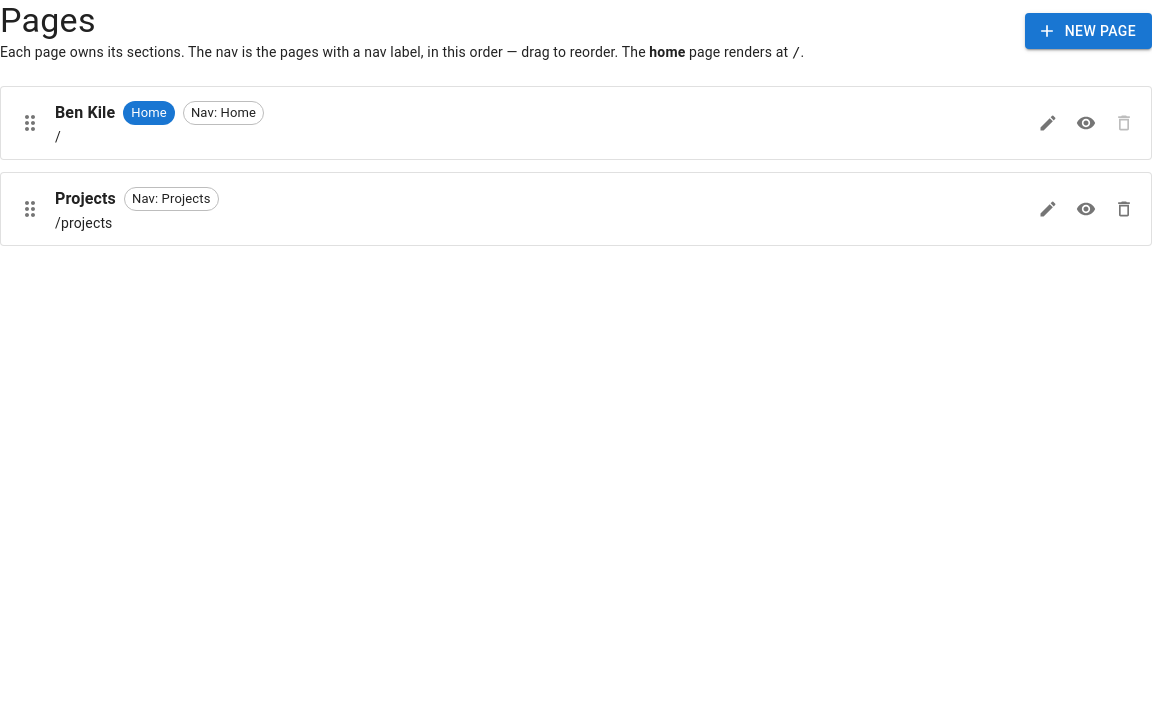
it: PagesPage (§3.10, §4.2, §4.5) › edit sends expected_updated_at and surfaces the 409 refetch flow (§4.5)
The image size is (1152, 720).
Step 1. Click the button named "edit projects" → coordinates (1048, 209), box 1033,194 -> 1063,224
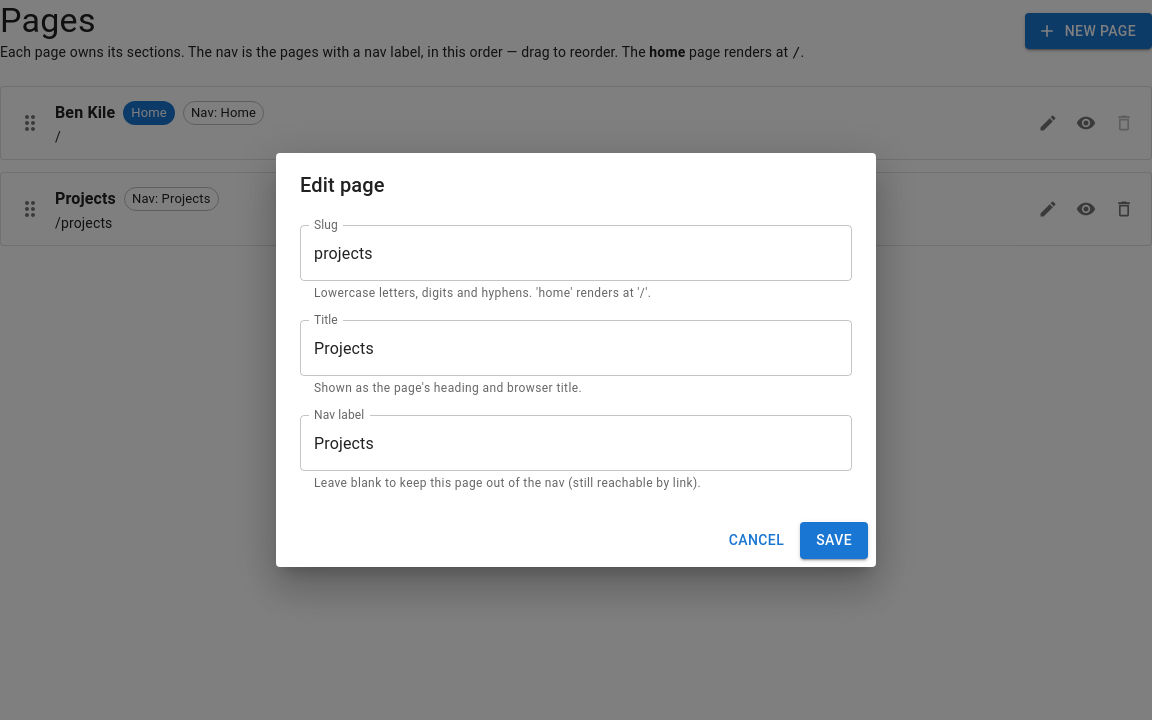
Step 2. Click the button "Save" → coordinates (834, 540), box 800,522 -> 868,559
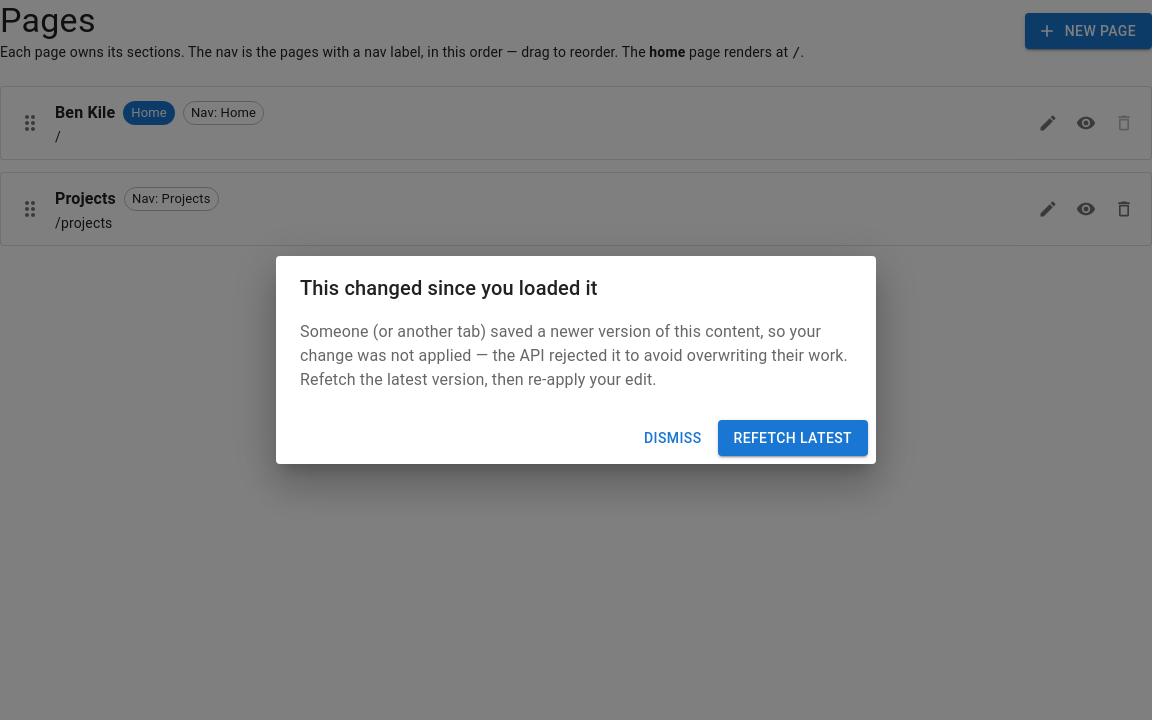
expect the heading "This changed since you loaded it" is shown: met, box 300,276 -> 598,300
Note: Refetch pulls fresh state and dismisses the dialog.
Step 3. Click the button "Refetch latest" → coordinates (793, 438), box 718,420 -> 868,456
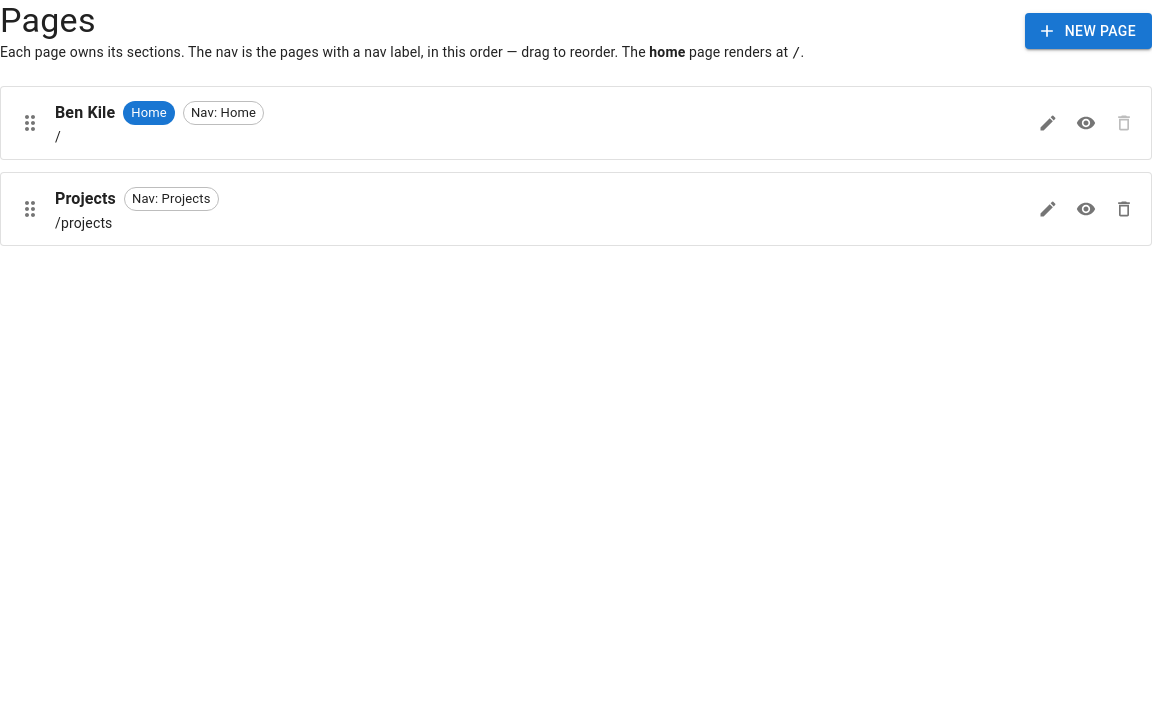
expect the heading "changed since you loaded it" is gone: met
